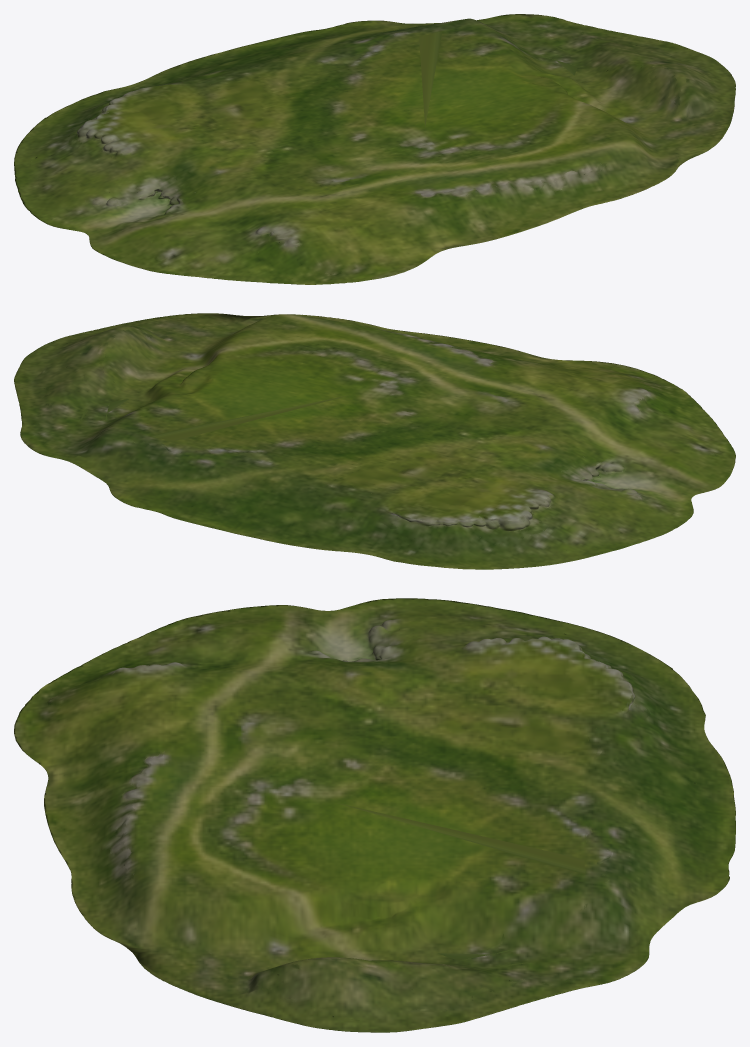
3 views of the same model, one above another, from view 1: azimuth 30°, elevation 25°; view 2: azimuth 150°, elevation 25°; view 3: azimuth 270°, elevation 25° (orthographic). The views are drawn at different scales.
Visible parts, largest first — view 1: Mesh_0; view 2: Mesh_0; view 3: Mesh_0.
Part boxes in pixels (x1,y1,x2,y2): Mesh_0: [14, 14, 735, 284]; Mesh_0: [14, 313, 735, 569]; Mesh_0: [14, 598, 735, 1032].
Bounding box in the file's own units: 270 × 9.28 × 190.
1 material, 1 textured.
